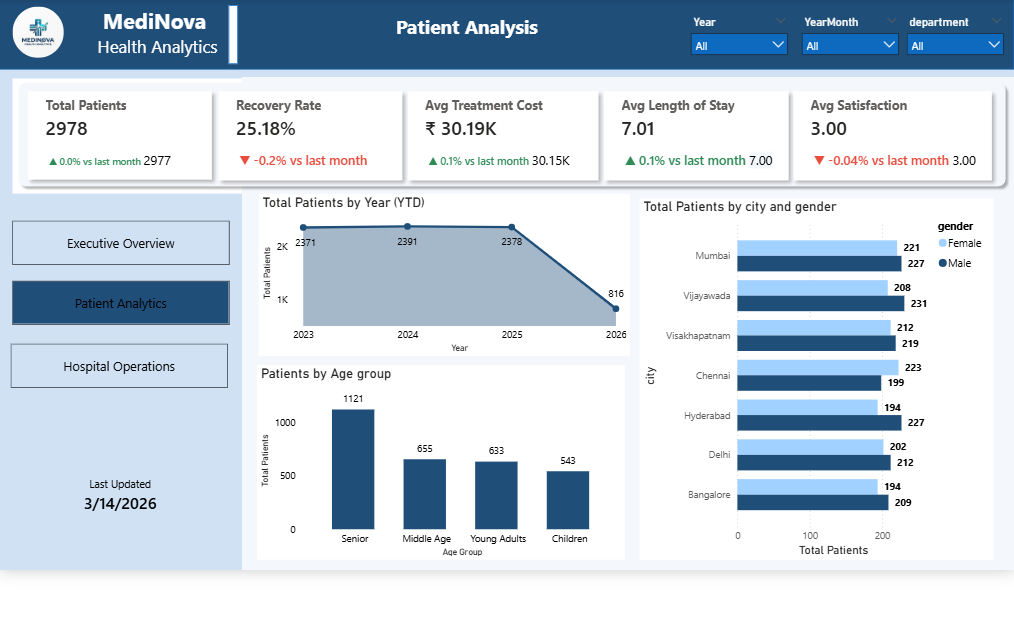

The dashboard page shown, as its layout file describes it:
{"tool":"powerbi","page":{"name":"Patient Analysis","canvas":[1280,720],"ordinal":3},"visuals":[{"type":"shape","box":[16.7,100,1260,145],"z":0},{"type":"shape","box":[0,0,1278.9,88.9],"z":1000},{"type":"image","box":[16.7,10,64.4,64.4],"z":2000},{"type":"textbox","box":[0,191.7,303.3,38.3],"z":3000},{"type":"textbox","box":[95.6,4.4,206.7,78.9],"z":4000},{"type":"shape","box":[290,6.7,12,74.4],"z":5000},{"type":"textbox","box":[302,14,574,44],"z":6000},{"type":"shape","box":[306.2,97.5,973.8,622.5],"z":7000},{"type":"shape","title":"Exceutive Overview","box":[16.2,280,273.3,55],"z":8000},{"type":"shape","title":"Exceutive Overview","box":[16.2,356.1,273.3,55],"z":9000},{"type":"shape","title":"Exceutive Overview","box":[14.6,434.3,273.3,55.3],"z":10000},{"type":"shape","box":[16.7,98.3,1258.3,145],"z":11000},{"type":"cardVisual","fields":{"Data":["All Measures.Avg Treatment Cost"]},"box":[485.3,86.6,298.3,170],"z":12000},{"type":"cardVisual","fields":{"Data":["All Measures.Avg Satisfaction"]},"box":[971.7,86.6,308.3,170],"z":13000},{"type":"lineChart","title":"Total Patients  by Year (YTD)","fields":{"Category":["DateTable.Year"],"Y":["All Measures.Total Patients"]},"box":[326,246,468,204],"z":14000},{"type":"clusteredBarChart","fields":{"Category":["healthcare_patients_clean.city"],"Series":["healthcare_patients_clean.gender"],"Y":["All Measures.Total Patients"]},"box":[806.8,252.1,445.7,455.4],"z":15000},{"type":"clusteredColumnChart","title":"Patients by Age group","fields":{"Y":["All Measures.Total Patients"],"Category":["healthcare_patients_clean.Age Group"]},"box":[325.3,461.9,463.6,245.6],"z":16000},{"type":"cardVisual","fields":{"Data":["All Measures.Last Updated"]},"box":[73.3,583.3,158.3,81.7],"z":17000},{"type":"slicer","fields":{"Values":["DateTable.Year"]},"box":[862,16,142,58],"z":18000},{"type":"slicer","fields":{"Values":["healthcare_doctors_clean.department"]},"box":[1134,16,142,58],"z":19000},{"type":"slicer","fields":{"Values":["DateTable.YearMonth"]},"box":[1002,16,142,58],"z":20000},{"type":"cardVisual","fields":{"Data":["All Measures.Avg Length of Stay"]},"box":[732.6,86.6,290,170],"z":21000},{"type":"cardVisual","fields":{"Data":["All Measures.Total Patients"]},"box":[8.1,87,289.5,169.2],"z":22000},{"type":"cardVisual","fields":{"Data":["All Measures.Recovery Rate"]},"box":[246.7,86.2,289.5,170.8],"z":23000}]}

Visuals, with their boxes on the page's 1280x720 design canvas (x1, y1, x2, y2). These are canvas units, not pixel positions in the 1014x624 screenshot, which may show the page scaled, cropped or inside an application window:
shape: [17,100,1277,245]
shape: [0,0,1279,89]
image: [17,10,81,74]
textbox: [0,192,303,230]
textbox: [96,4,302,83]
shape: [290,7,302,81]
textbox: [302,14,876,58]
shape: [306,98,1280,720]
"Exceutive Overview" shape: [16,280,290,335]
"Exceutive Overview" shape: [16,356,290,411]
"Exceutive Overview" shape: [15,434,288,490]
shape: [17,98,1275,243]
cardVisual - All Measures.Avg Treatment Cost: [485,87,784,257]
cardVisual - All Measures.Avg Satisfaction: [972,87,1280,257]
"Total Patients  by Year (YTD)" lineChart: [326,246,794,450]
clusteredBarChart - healthcare_patients_clean.city x healthcare_patients_clean.gender: [807,252,1252,708]
"Patients by Age group" clusteredColumnChart: [325,462,789,708]
cardVisual - All Measures.Last Updated: [73,583,232,665]
slicer - DateTable.Year: [862,16,1004,74]
slicer - healthcare_doctors_clean.department: [1134,16,1276,74]
slicer - DateTable.YearMonth: [1002,16,1144,74]
cardVisual - All Measures.Avg Length of Stay: [733,87,1023,257]
cardVisual - All Measures.Total Patients: [8,87,298,256]
cardVisual - All Measures.Recovery Rate: [247,86,536,257]
